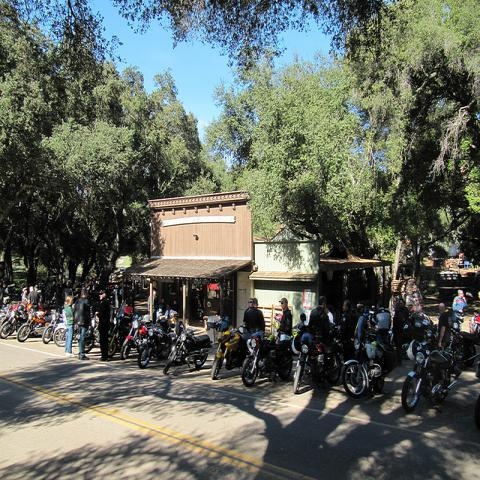motorcycle: (400, 336, 461, 416), (292, 312, 344, 395), (341, 334, 398, 400), (241, 330, 296, 388), (162, 323, 214, 375), (121, 308, 172, 360), (209, 327, 249, 380), (136, 323, 176, 369), (17, 303, 53, 343), (108, 303, 133, 356), (42, 313, 64, 345), (53, 323, 66, 347)
